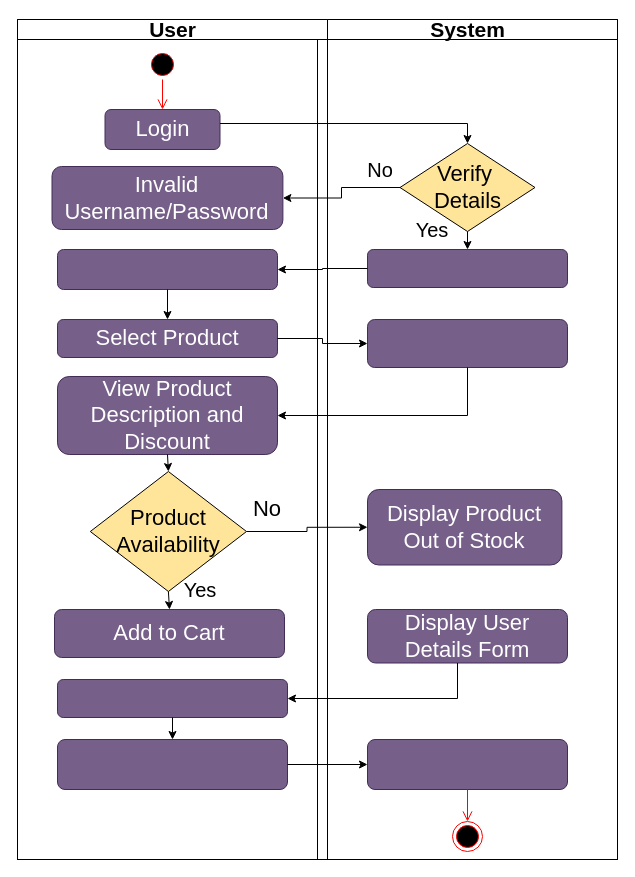
Image size: 635x877. Some labels were removed from this diagram. The shapes that lost their labels are listed below. From the top down, each one's centre as x and y in pixels, then its label:
At (167,269): "Search Product".
At (467,268): "Display Products".
At (467,343): "Show Product Description".
At (172,698): "Fill Details".
At (172,764): "Make Payment".
At (467,764): "Display Order Confirmation".
